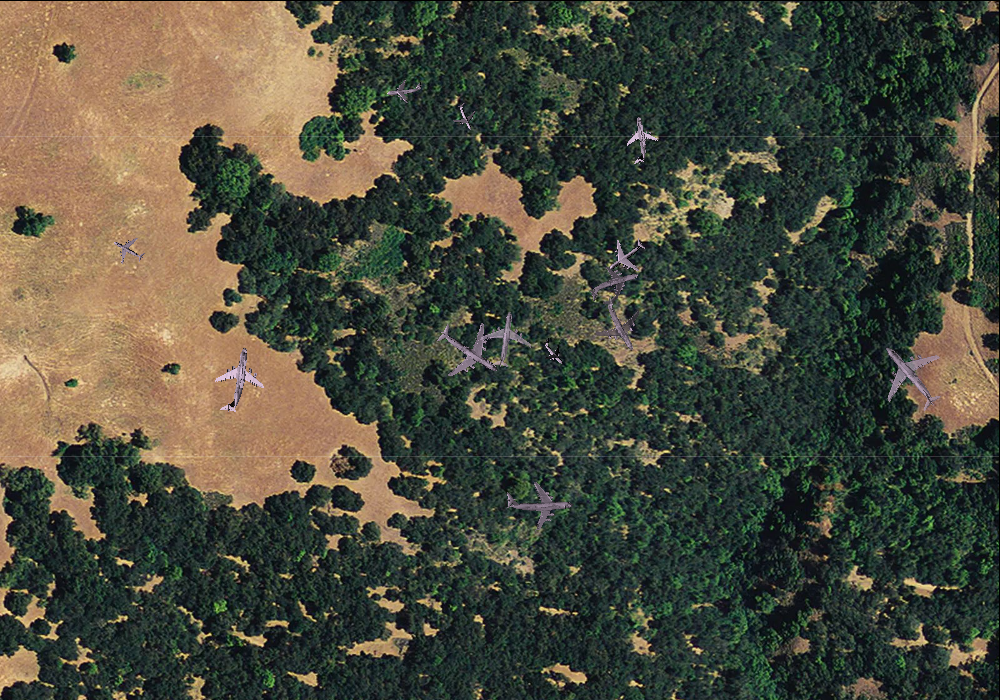plane: (859, 325, 962, 427), (422, 305, 515, 397), (582, 286, 658, 362), (202, 342, 271, 417), (504, 471, 575, 534), (474, 307, 535, 371), (583, 256, 645, 313), (597, 227, 655, 284), (616, 113, 663, 166), (105, 228, 150, 271), (535, 333, 572, 371), (447, 98, 483, 135), (385, 72, 423, 106)
